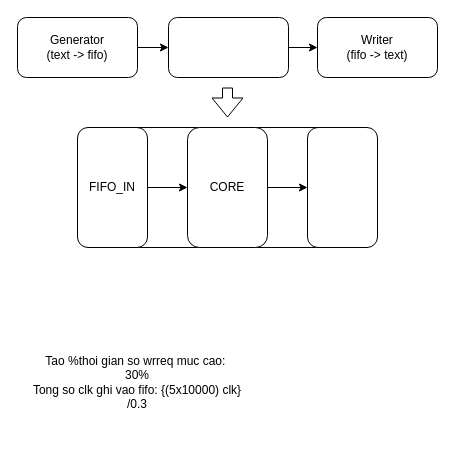
The diagram is 455 pixels wide and 465 high, and some of its shapes have lost their labels. The shapes that lost their labels are listed below. From the top down, each one's centre as x and y in pixels, then its label:
point 228,47: VIP_TOP (DUT)
point 342,187: FIFO_OUT
